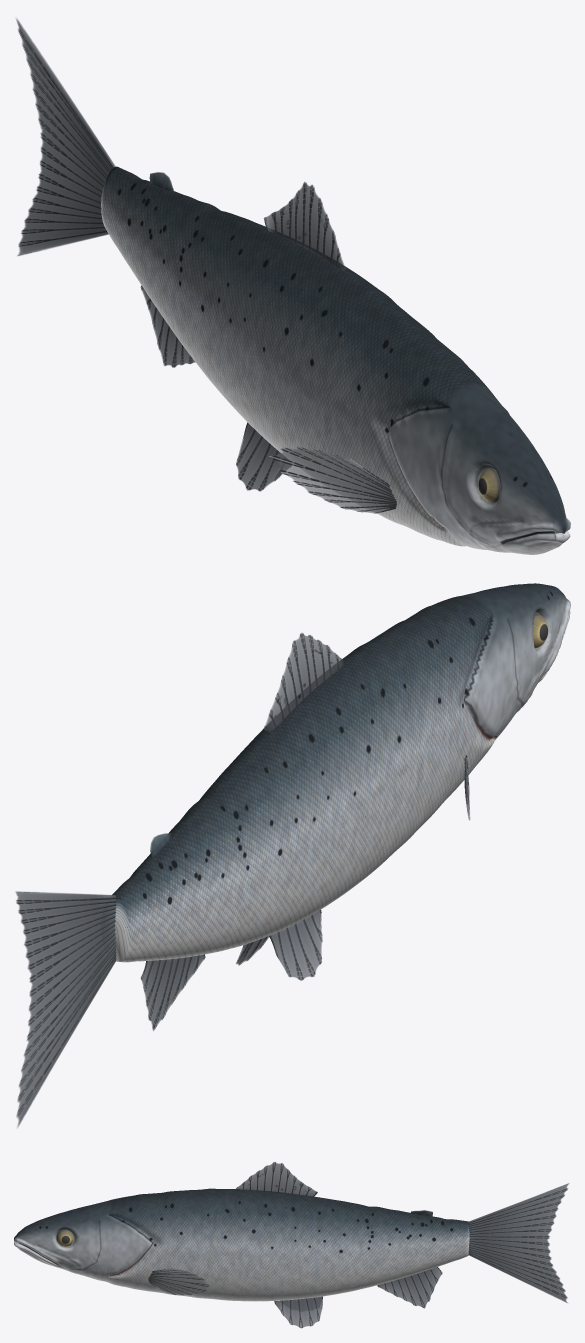
File: troc_wedrowna.glb
The picture shows the model from 3 angles, top to bottom: view 1: azimuth 30°, elevation 25°; view 2: azimuth 150°, elevation 25°; view 3: azimuth 270°, elevation 25°; orthographic projection. The views are drawn at different scales.
Visible parts, largest first — view 1: Body, FinCaudal, FinPectoral, FinDorsal1, FinPelvic, FinAnal; view 2: Body, FinCaudal, FinDorsal1, FinPelvic, FinAnal; view 3: Body, FinCaudal, FinDorsal1, FinAnal, FinPectoral, FinPelvic, EyeRight.
Part boxes in pixels (left/top/right/bottom): Body: left=101, top=166, right=570, bottom=554; FinCaudal: left=16, top=19, right=115, bottom=255; FinPectoral: left=269, top=447, right=396, bottom=513; FinDorsal1: left=263, top=182, right=346, bottom=271; FinPelvic: left=236, top=422, right=292, bottom=491; FinAnal: left=140, top=285, right=195, bottom=367; Body: left=112, top=583, right=570, bottom=962; FinCaudal: left=15, top=891, right=116, bottom=1127; FinDorsal1: left=264, top=633, right=344, bottom=734; FinPelvic: left=236, top=909, right=322, bottom=980; FinAnal: left=140, top=954, right=205, bottom=1030; Body: left=14, top=1188, right=469, bottom=1301; FinCaudal: left=468, top=1183, right=569, bottom=1302; FinDorsal1: left=236, top=1162, right=317, bottom=1197; FinAnal: left=377, top=1267, right=442, bottom=1308; FinPectoral: left=148, top=1268, right=210, bottom=1295; FinPelvic: left=274, top=1296, right=322, bottom=1328; EyeRight: left=56, top=1229, right=73, bottom=1246.
Bounding box in the file's own units: 0.2121 × 0.3192 × 1.
Materials: 9 (8 with a texture image).
